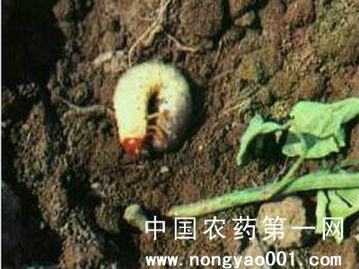grub: (107, 59, 196, 165)
